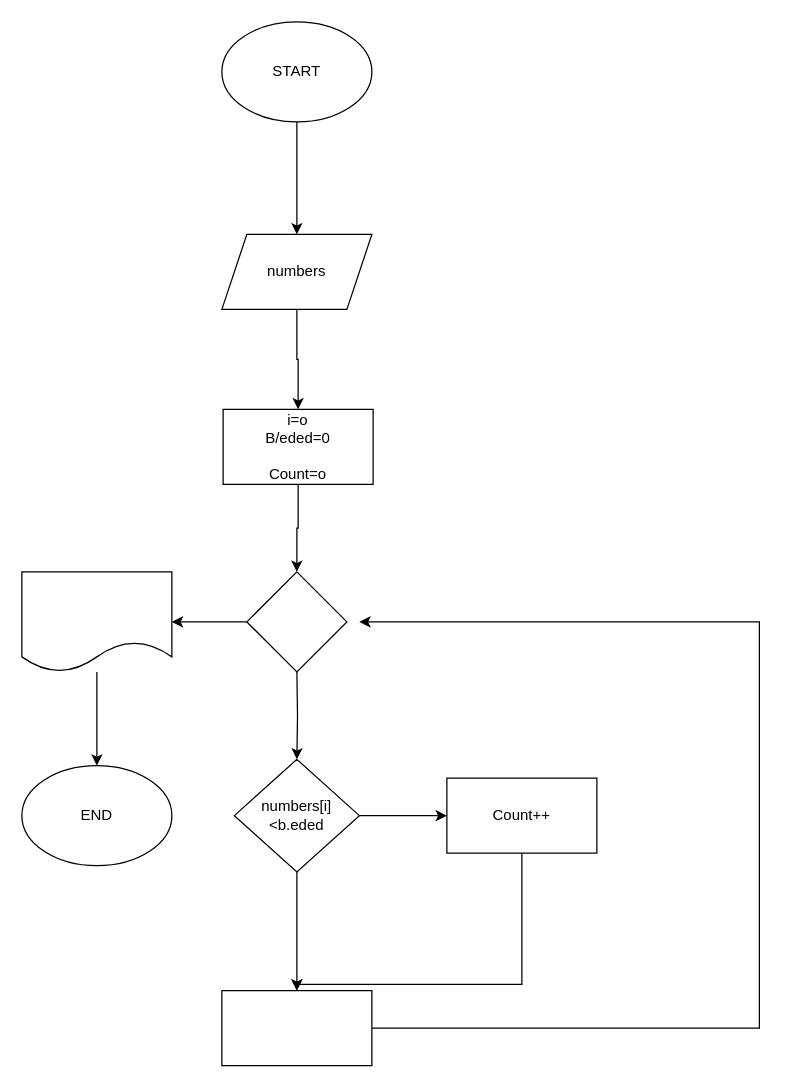
This 791x1088 diagram has some shape labels left out. The box of each missing label's shape, as (x1, y1, x2, y2) in pixels:
Count: (21, 571, 172, 672)
i++: (221, 989, 372, 1066)
i<num length: (246, 571, 347, 672)
